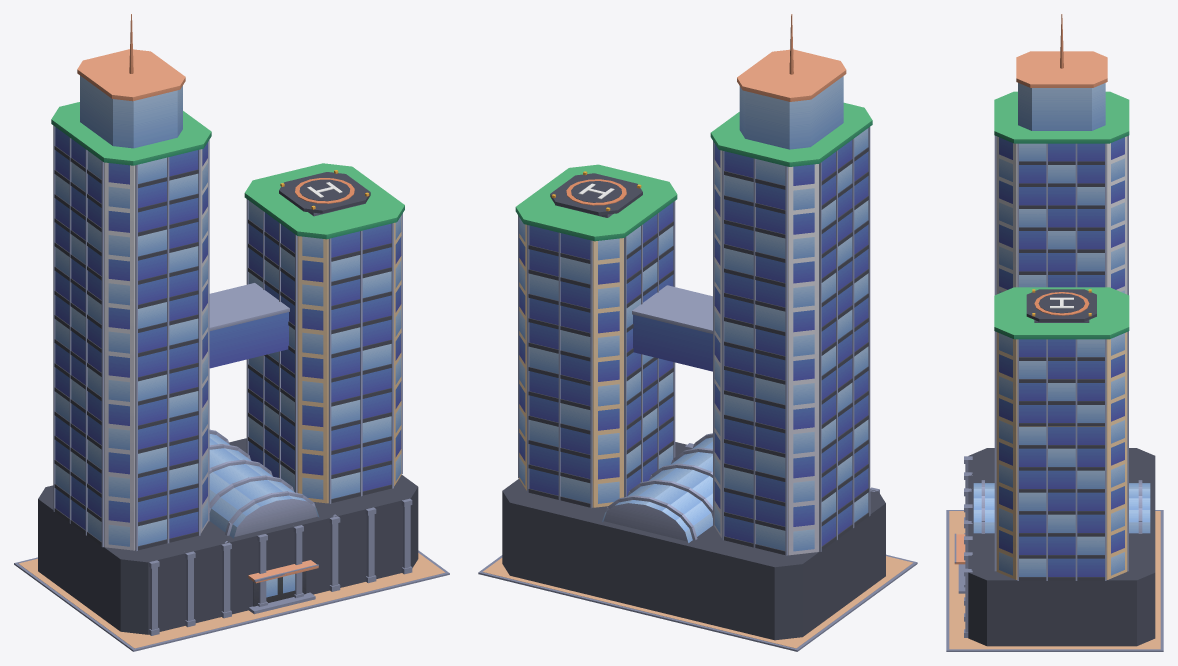
Rendered from off_financial_center_3x2.glb.
3 views of the same model, side by side, from view 1: azimuth 30°, elevation 25°; view 2: azimuth 150°, elevation 25°; view 3: azimuth 270°, elevation 25° (orthographic). The views are drawn at different scales.
Parts seen in each view (by area): view 1: off_financial_center_3x2; view 2: off_financial_center_3x2; view 3: off_financial_center_3x2.
Boxes of the visible parts, left/top/right/bottom form: off_financial_center_3x2: left=14, top=14, right=449, bottom=651; off_financial_center_3x2: left=478, top=14, right=917, bottom=651; off_financial_center_3x2: left=946, top=14, right=1163, bottom=651.
Size of the model in its own units: 5.76 by 10.02 by 3.76.
Materials: 1 (1 with a texture image).
